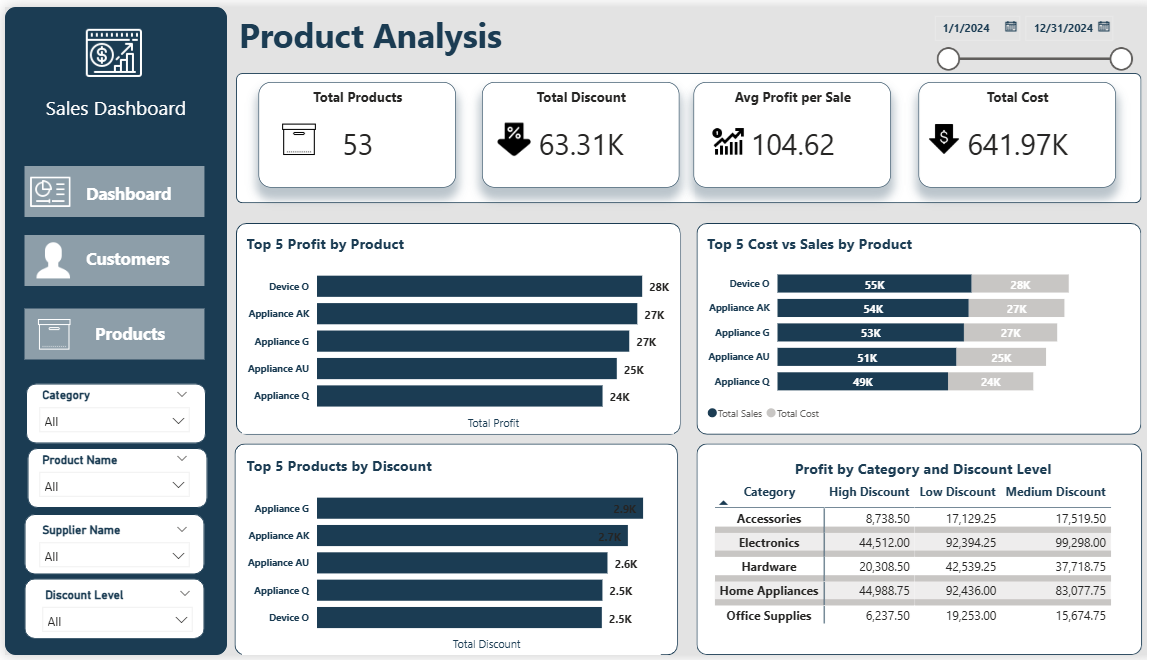

The dashboard page shown, as its layout file describes it:
{"tool":"powerbi","page":{"name":"Product Analysis","canvas":[1280,720],"ordinal":2},"visuals":[{"type":"shape","box":[0,0,246.7,720],"z":0},{"type":"actionButton","box":[21.7,176.7,199.9,56.7],"z":0,"group":"g1"},{"type":"shape","box":[255.9,73.1,1006.1,144.6],"z":1000},{"type":"image","box":[21.7,176.7,57.6,56.7],"z":1000,"group":"g1"},{"type":"textbox","box":[255,0,348.3,66.7],"z":2000},{"type":"textbox","box":[84.4,193.4,125.4,40],"z":2000,"group":"g1"},{"type":"shape","box":[255.9,240,494.3,235.2],"z":3000},{"type":"actionButton","box":[21.7,253.4,199.9,56.7],"z":3000,"group":"g1"},{"type":"card","title":"Total Cost","fields":{"Values":["Sales.Total Cost"]},"box":[1014.8,83.2,219.2,117.2],"z":4000},{"type":"textbox","box":[84.4,266.7,140.6,43.3],"z":4000,"group":"g1"},{"type":"card","title":"Avg Profit per Sale","fields":{"Values":["Sales.Avg Profit per Sales"]},"box":[765.4,83.2,219.2,117.2],"z":5000},{"type":"actionButton","box":[21.7,335,199.9,56.7],"z":5000,"group":"g1"},{"type":"card","title":"Total Products","fields":{"Values":["Count(Products.Product_ID)"]},"box":[281.6,83.2,219.2,117.2],"z":6000},{"type":"textbox","box":[94.6,340,110.1,51.7],"z":6000,"group":"g1"},{"type":"card","title":"Total Discount","fields":{"Values":["Sales.Total Discount"]},"box":[529.3,82.6,219.3,117.6],"z":7000},{"type":"image","box":[26.8,325,55.9,76.7],"z":7000,"group":"g1"},{"type":"image","box":[778.8,124,49.3,52.5],"z":8000},{"type":"image","box":[25.1,253.4,57.6,56.7],"z":8000,"group":"g1"},{"type":"shape","box":[767.7,240,494.3,235.2],"z":9000},{"type":"shape","box":[255.5,485.3,492.6,235.3],"z":10000},{"type":"shape","box":[768.3,485,495,235],"z":11000},{"type":"barChart","title":"Top 5 Profit by Product","fields":{"Category":["Products.Product_Name"],"Y":["Sales.Total Profit"]},"box":[262.7,251.3,480,223],"z":12000},{"type":"barChart","title":"Top 5 Cost vs Sales by Product","fields":{"Category":["Products.Product_Name"],"Y":["Sales.Total Sales","Sales.Total Cost"]},"box":[774.8,251.3,478.1,217.3],"z":13000},{"type":"image","box":[468.9,577,47.7,57.2],"z":14000},{"type":"shape","box":[25,490,200,66.7],"z":15000},{"type":"slicer","fields":{"Values":["Products.Product_Name"]},"box":[28.3,490,186.7,55],"z":16000},{"type":"shape","box":[21.7,635,200,67],"z":17000},{"type":"slicer","fields":{"Values":["Sales.Discount Level"]},"box":[31.7,640,186.7,66.7],"z":18000},{"type":"slicer","fields":{"Values":["Sales.Date"]},"box":[1020.4,0,241.6,73.1],"z":19000},{"type":"image","box":[273.4,117.6,106.5,57.2],"z":20000},{"type":"image","box":[542,117.6,47.7,57.2],"z":21000},{"type":"image","box":[1020.4,124,46.1,46.1],"z":22000},{"type":"barChart","title":"Top 5 Products by Discount","fields":{"Y":["Sales.Total Discount"],"Category":["Products.Product_Name"]},"box":[262.9,498.2,465.1,222.4],"z":23000},{"type":"image","box":[70,10,101.7,81.7],"z":24000,"group":"g2"},{"type":"pivotTable","title":"Profit by Category and Discount Level  ","fields":{"Rows":["Products.Category"],"Columns":["Sales.Discount Level"],"Values":["Sales.Total Profit"]},"box":[783.3,501.7,473.3,190],"z":24000},{"type":"textbox","box":[20,91.7,206.7,50],"z":25000,"group":"g2"},{"type":"group","id":"g1","title":"Group 1","box":[21.7,176.7,203.3,225],"z":25000},{"type":"group","id":"g2","title":"Group 2","box":[20,10,206.7,131.7],"z":26000},{"type":"shape","box":[23.3,418.3,200,66.7],"z":27000},{"type":"slicer","fields":{"Values":["Products.Category"]},"box":[28.3,418.3,186.7,66.7],"z":28000},{"type":"shape","box":[21.7,563.3,200,67],"z":29000},{"type":"slicer","fields":{"Values":["Products.Supplier Name"]},"box":[28.3,568.3,186.7,55],"z":30000}]}

Visuals, with their boxes in screenshot pixels (x1, y1, x2, y2), scaled from the page's 1280x720 canvas onto the 1150x660 screenshot:
shape: rect(0, 0, 222, 659)
actionButton: rect(19, 162, 199, 214)
shape: rect(230, 67, 1134, 200)
image: rect(19, 162, 71, 214)
textbox: rect(229, 0, 542, 61)
textbox: rect(76, 177, 188, 214)
shape: rect(230, 220, 674, 436)
actionButton: rect(19, 232, 199, 284)
"Total Cost" card: rect(912, 76, 1109, 184)
textbox: rect(76, 244, 202, 284)
"Avg Profit per Sale" card: rect(688, 76, 885, 184)
actionButton: rect(19, 307, 199, 359)
"Total Products" card: rect(253, 76, 450, 184)
textbox: rect(85, 312, 184, 359)
"Total Discount" card: rect(476, 76, 673, 184)
image: rect(24, 298, 74, 368)
image: rect(700, 114, 744, 162)
image: rect(23, 232, 74, 284)
shape: rect(690, 220, 1134, 436)
shape: rect(230, 445, 672, 659)
shape: rect(690, 445, 1135, 659)
"Top 5 Profit by Product" barChart: rect(236, 230, 667, 435)
"Top 5 Cost vs Sales by Product" barChart: rect(696, 230, 1126, 430)
image: rect(421, 529, 464, 581)
shape: rect(22, 449, 202, 510)
slicer - Products.Product_Name: rect(25, 449, 193, 500)
shape: rect(19, 582, 199, 644)
slicer - Sales.Discount Level: rect(28, 587, 196, 648)
slicer - Sales.Date: rect(917, 0, 1134, 67)
image: rect(246, 108, 341, 160)
image: rect(487, 108, 530, 160)
image: rect(917, 114, 958, 156)
"Top 5 Products by Discount" barChart: rect(236, 457, 654, 659)
image: rect(63, 9, 154, 84)
"Profit by Category and Discount Level  " pivotTable: rect(704, 460, 1129, 634)
textbox: rect(18, 84, 204, 130)
"Group 1" group: rect(19, 162, 202, 368)
"Group 2" group: rect(18, 9, 204, 130)
shape: rect(21, 383, 201, 445)
slicer - Products.Category: rect(25, 383, 193, 445)
shape: rect(19, 516, 199, 578)
slicer - Products.Supplier Name: rect(25, 521, 193, 571)
